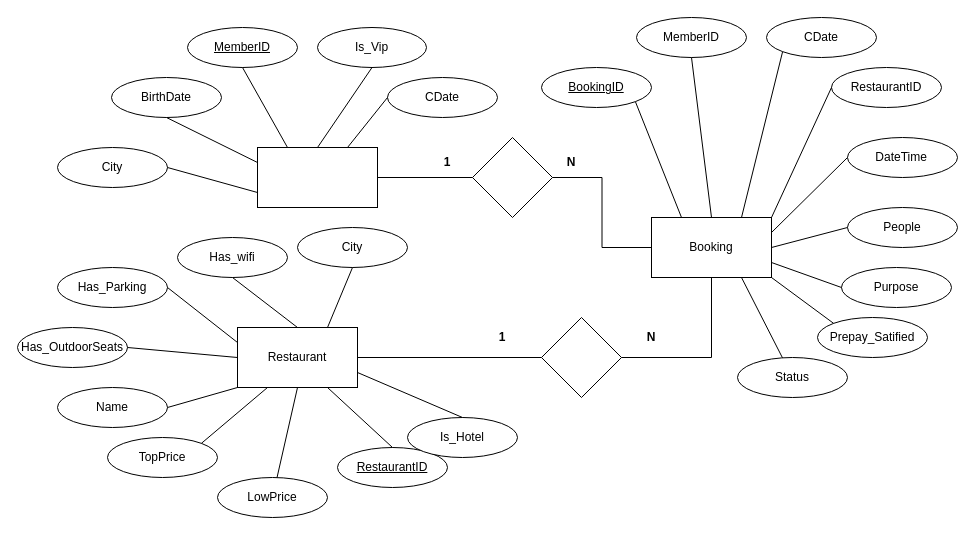
The diagram is 975 pixels wide and 535 high, and some of its shapes have lost their labels. Each missing label, with the centre of its shape:
Makes: (512,177)
Member: (317,177)
Reserves: (581,357)
